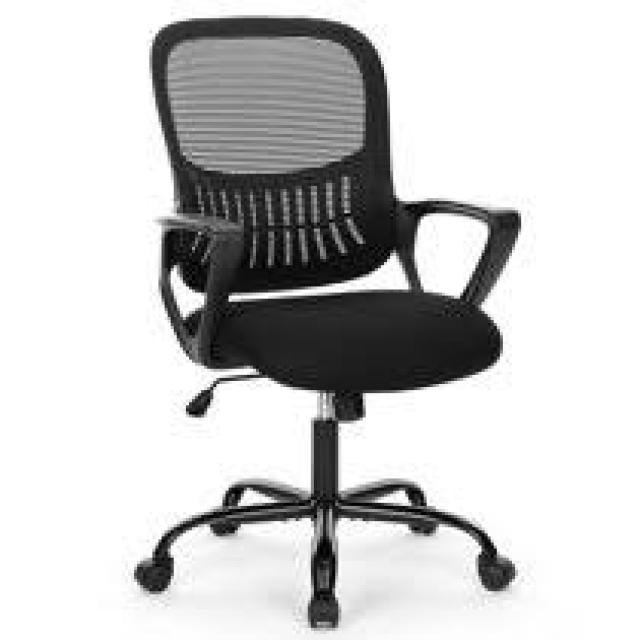chair: (49, 0, 592, 633)
